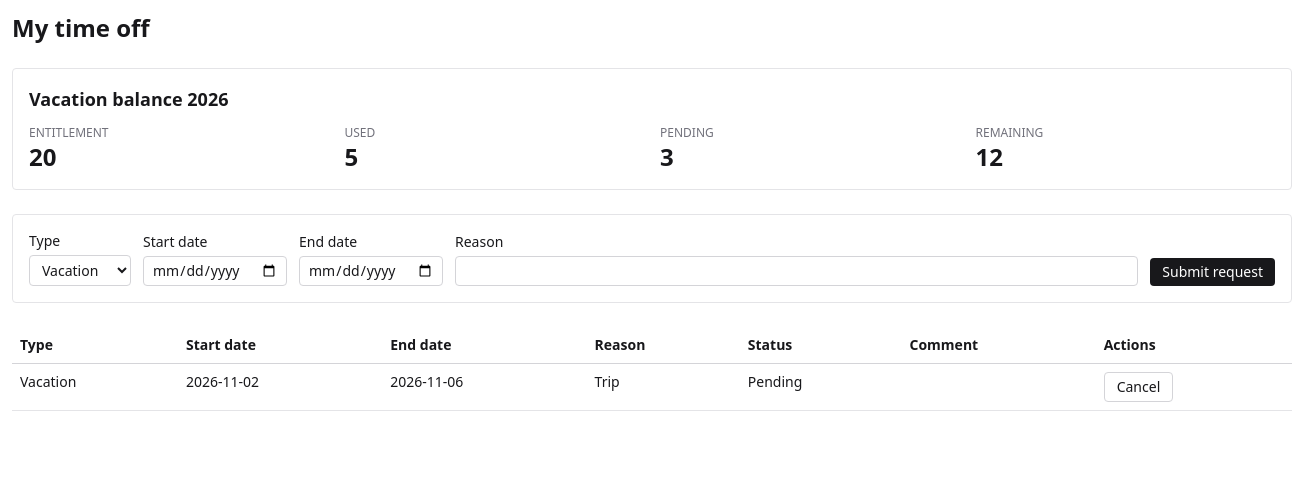
it: cancel (R6, R7) › Confirm cancel sends the reason and reloads list and balance
Click the button "Cancel" at (1138, 387), box [1104,372,1173,402]
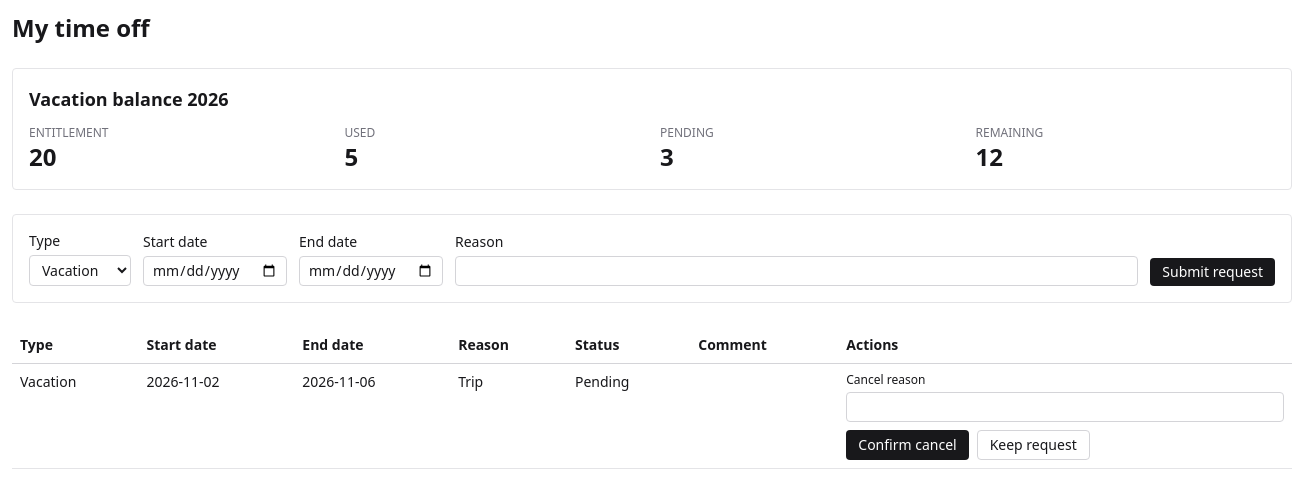
Type "Plans changed" into the field labelled "Cancel reason" at (1065, 407), box [846,392,1284,422]
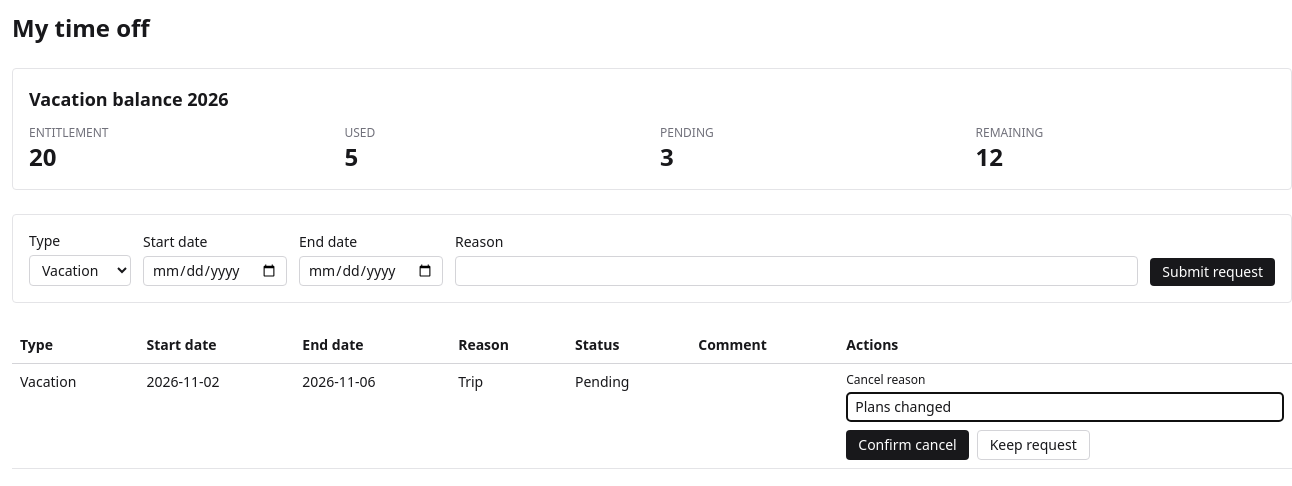
Click the button "Confirm cancel" at (908, 445), box [846,430,969,460]
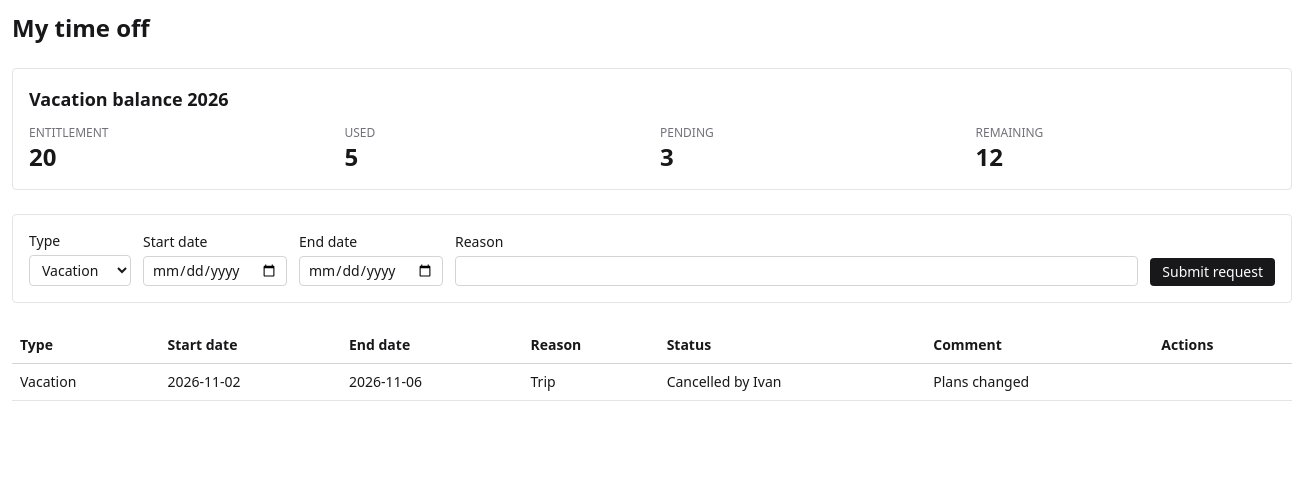
Result: the text "Cancelled by Ivan" is shown at [659,364,925,400]
